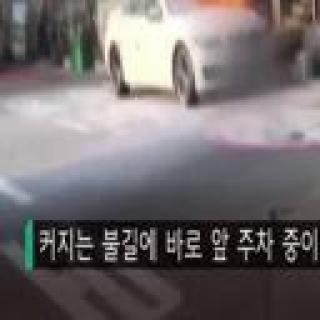fire: (185, 0, 252, 7)
